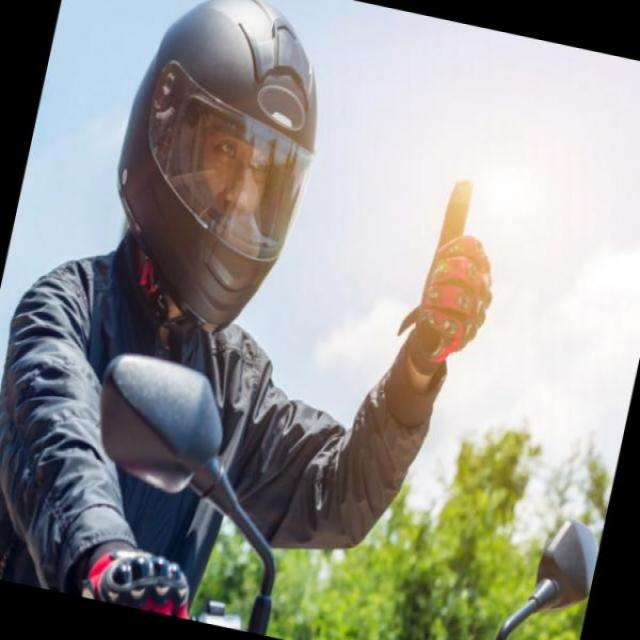Helmet: (105, 0, 372, 335)
